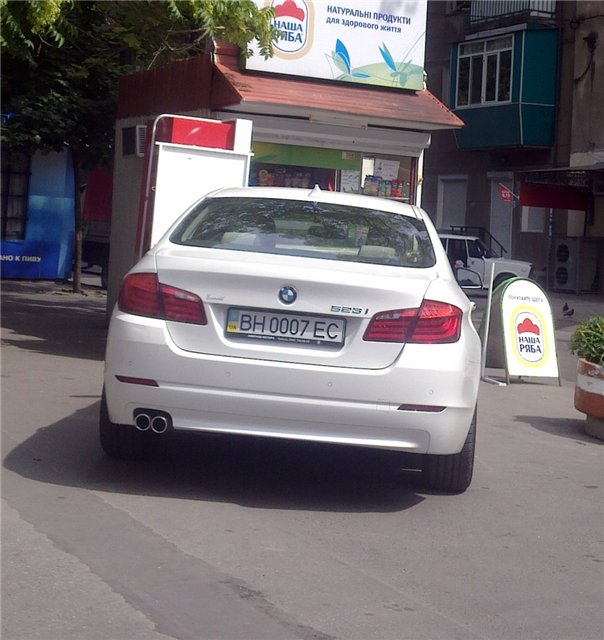car: (101, 186, 483, 491)
plate: (225, 307, 347, 346)
